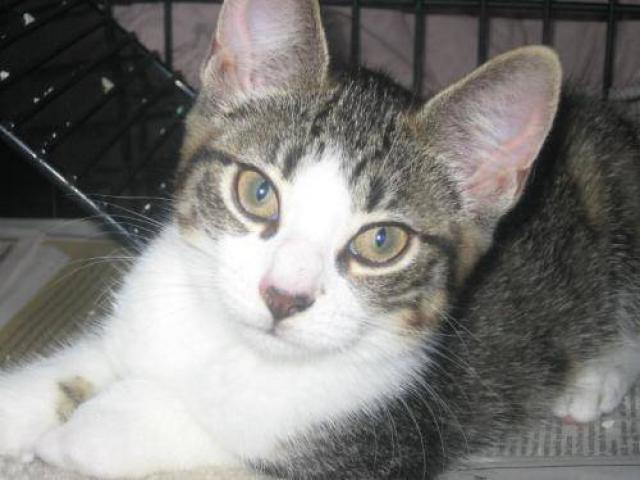cat: (12, 7, 571, 480)
